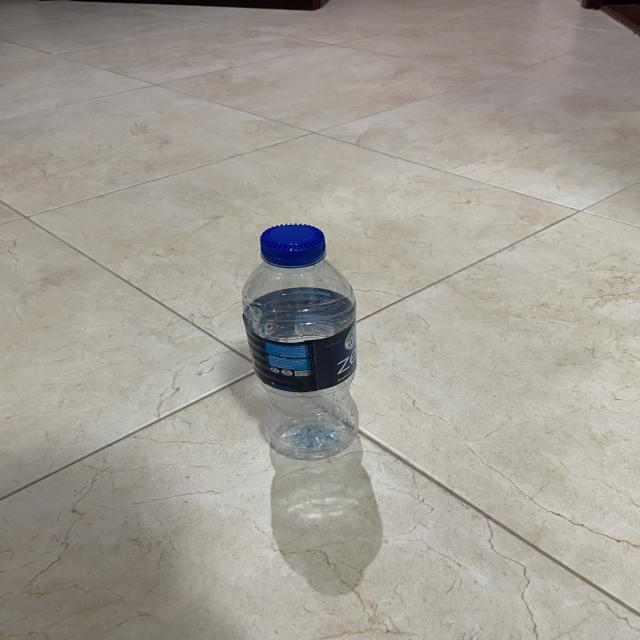bottle: (233, 218, 367, 464)
